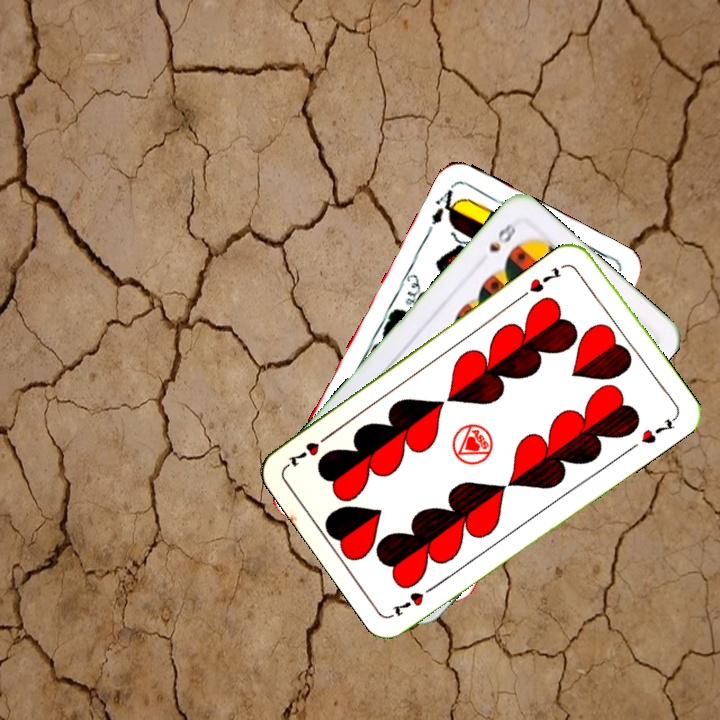EA: (423, 185, 464, 237)
H7: (388, 580, 440, 619), (525, 263, 564, 295)
S8: (484, 219, 518, 255)
